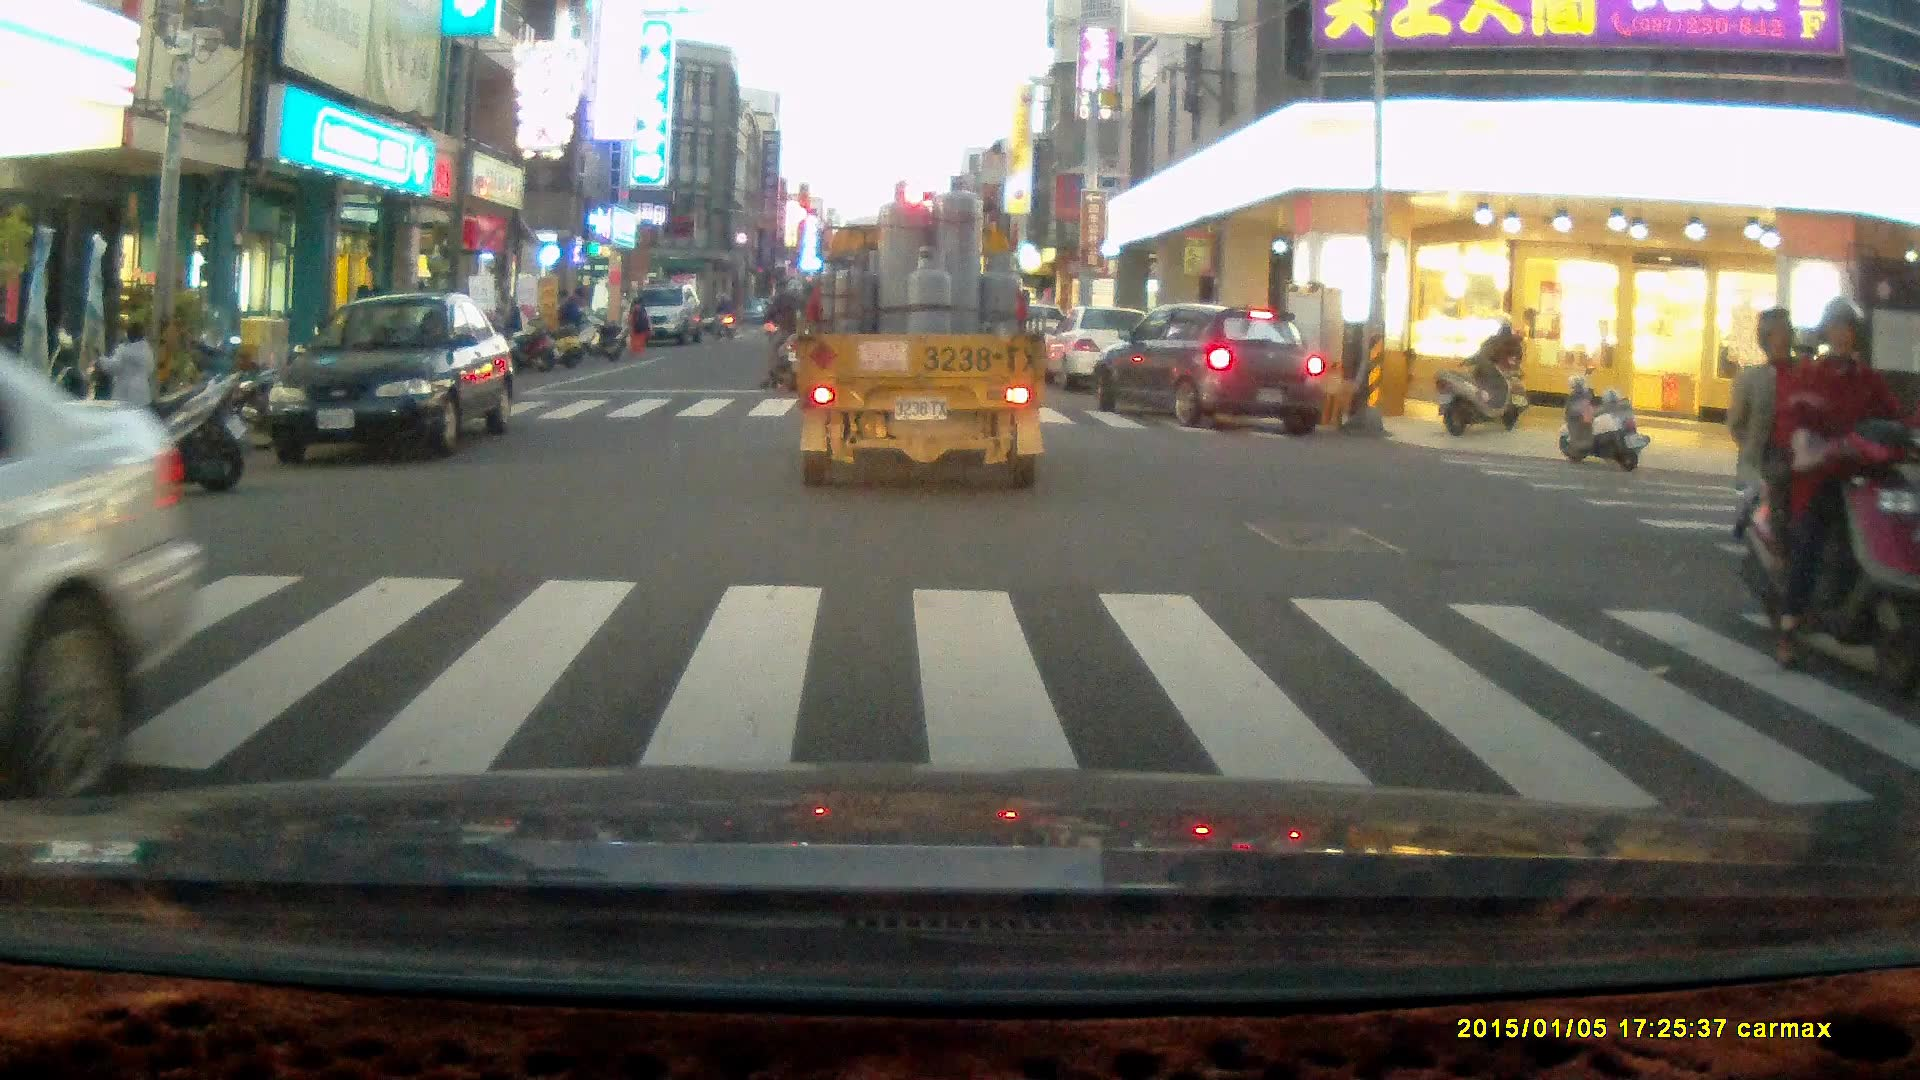pedestrian: (95, 318, 158, 465), (556, 285, 585, 352), (625, 296, 648, 356)
rider: (1731, 294, 1920, 694), (757, 264, 815, 392), (1472, 310, 1530, 430)
vehicle: (1, 332, 200, 812), (790, 171, 1054, 490), (272, 292, 515, 462), (1090, 305, 1323, 431), (1043, 307, 1171, 397), (622, 280, 699, 341)
